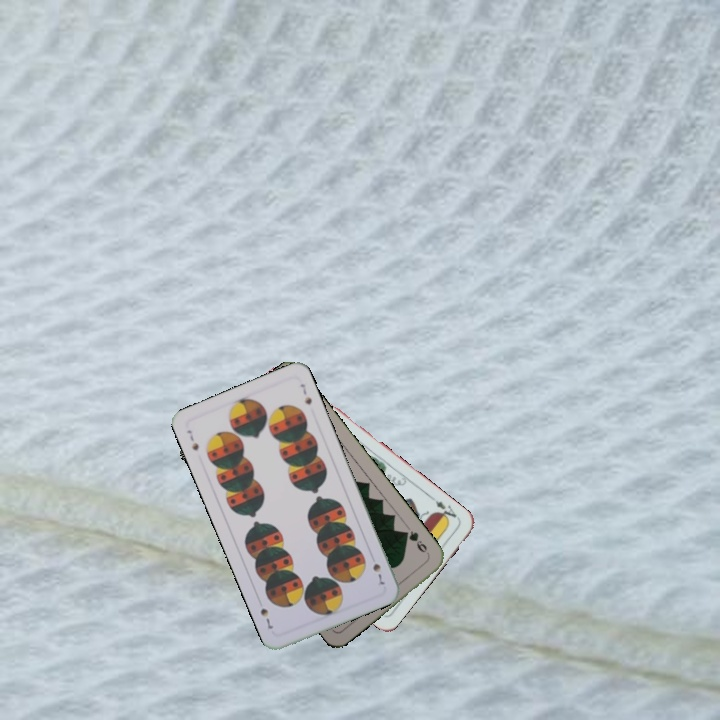EA: (427, 494, 462, 524)
G9: (399, 527, 432, 559)
S7: (369, 559, 387, 588), (183, 426, 201, 453)
